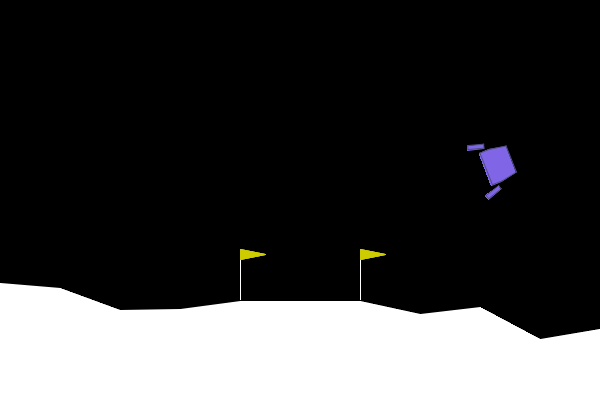lander: (465, 131, 524, 201)
